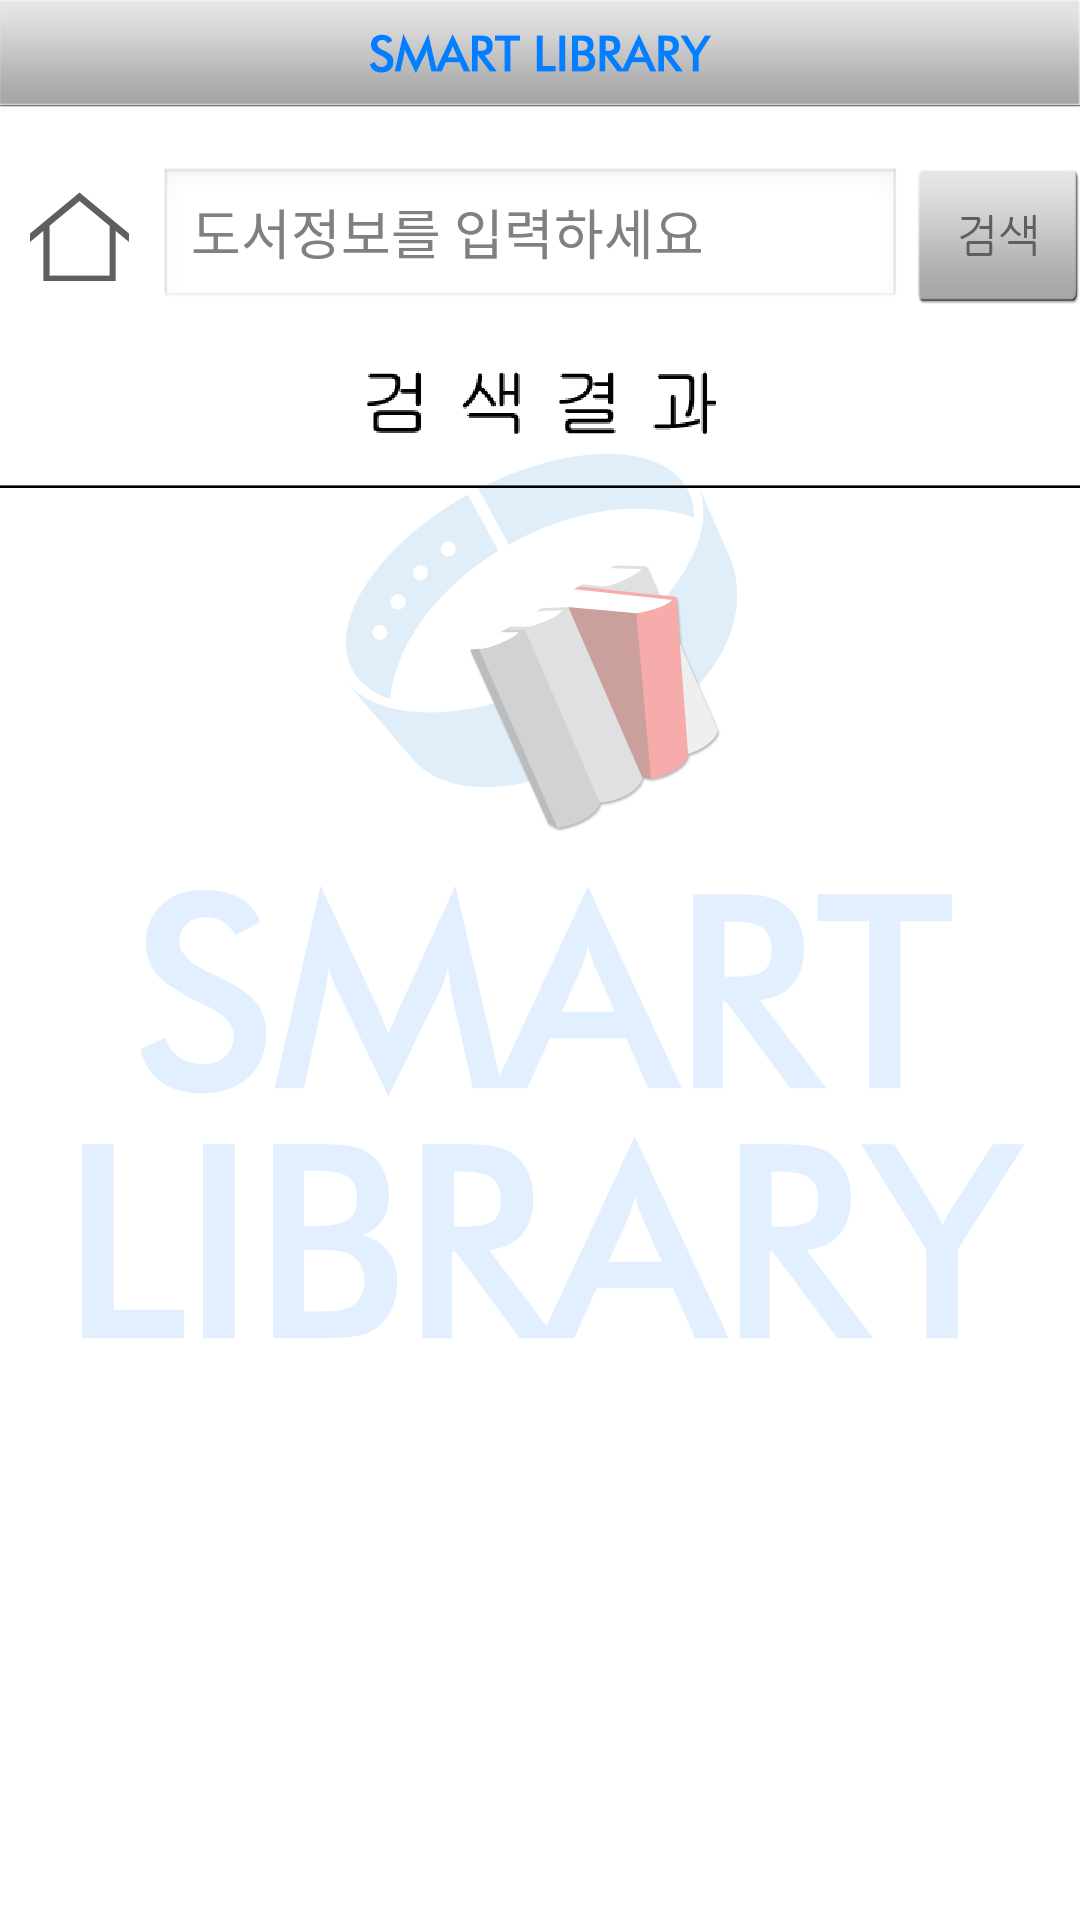

Icon bounding boxes for this 1080 × 1920 phone screenshot, format (x1, y1, x2, y2):
mainhome: (30, 192, 129, 281)
